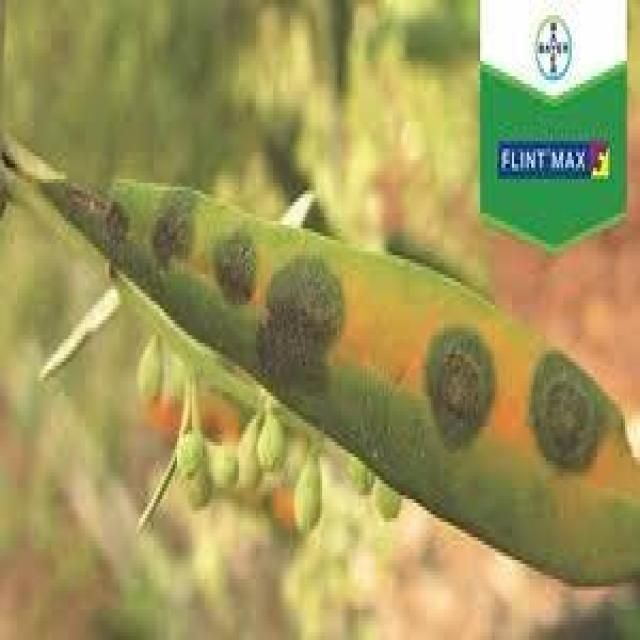Peacock Eye: (41, 183, 638, 579)
